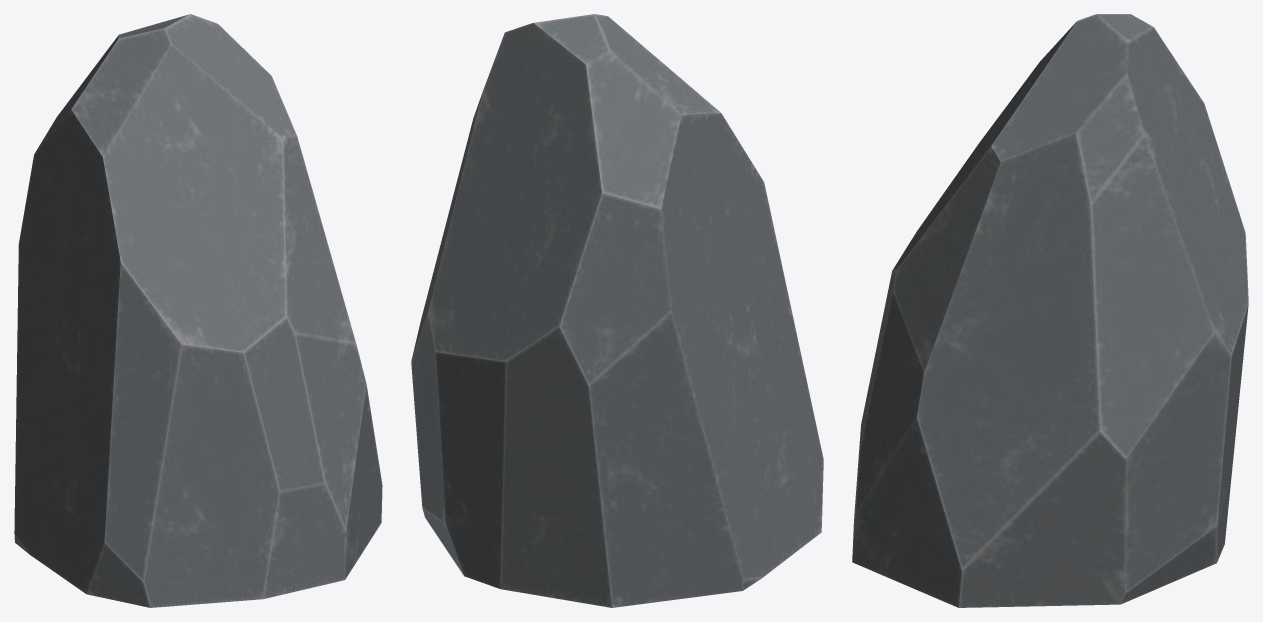
The model's file is Rock_1.fbx.
3 views of the same model, side by side, from view 1: azimuth 30°, elevation 25°; view 2: azimuth 150°, elevation 25°; view 3: azimuth 270°, elevation 25° (orthographic). The views are drawn at different scales.
Visible parts, largest first — view 1: defaultMaterial.001; view 2: defaultMaterial.001; view 3: defaultMaterial.001.
Part boxes in pixels (x1,y1,x2,y2): defaultMaterial.001: [14, 14, 382, 607]; defaultMaterial.001: [411, 14, 823, 607]; defaultMaterial.001: [852, 14, 1248, 607].
Bounding box in the file's own units: 61.01 × 94.28 × 65.56.
